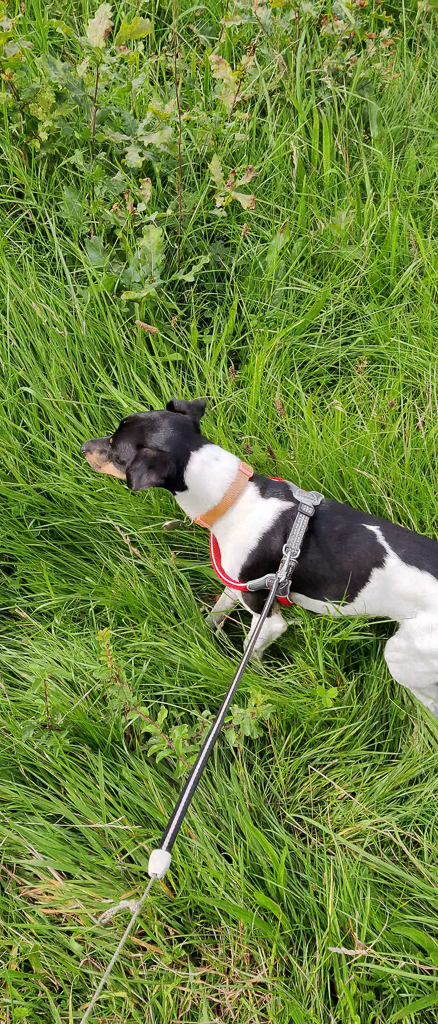Dog: (68, 376, 438, 731)
